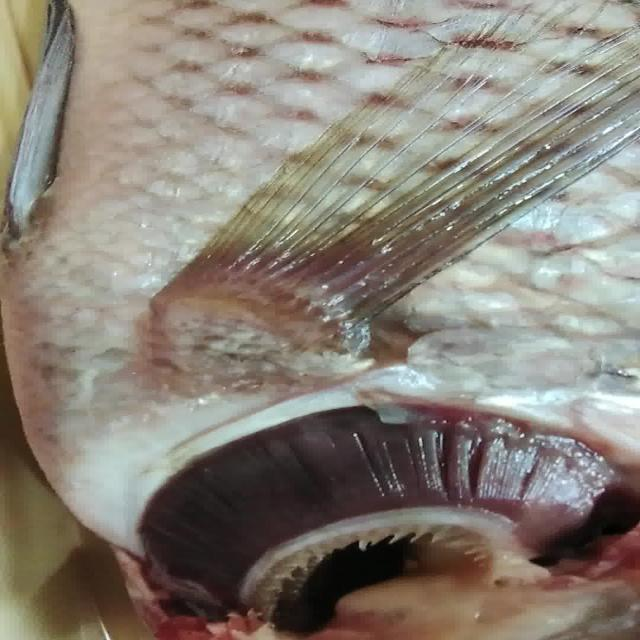Non-Fresh: (136, 407, 577, 602)
